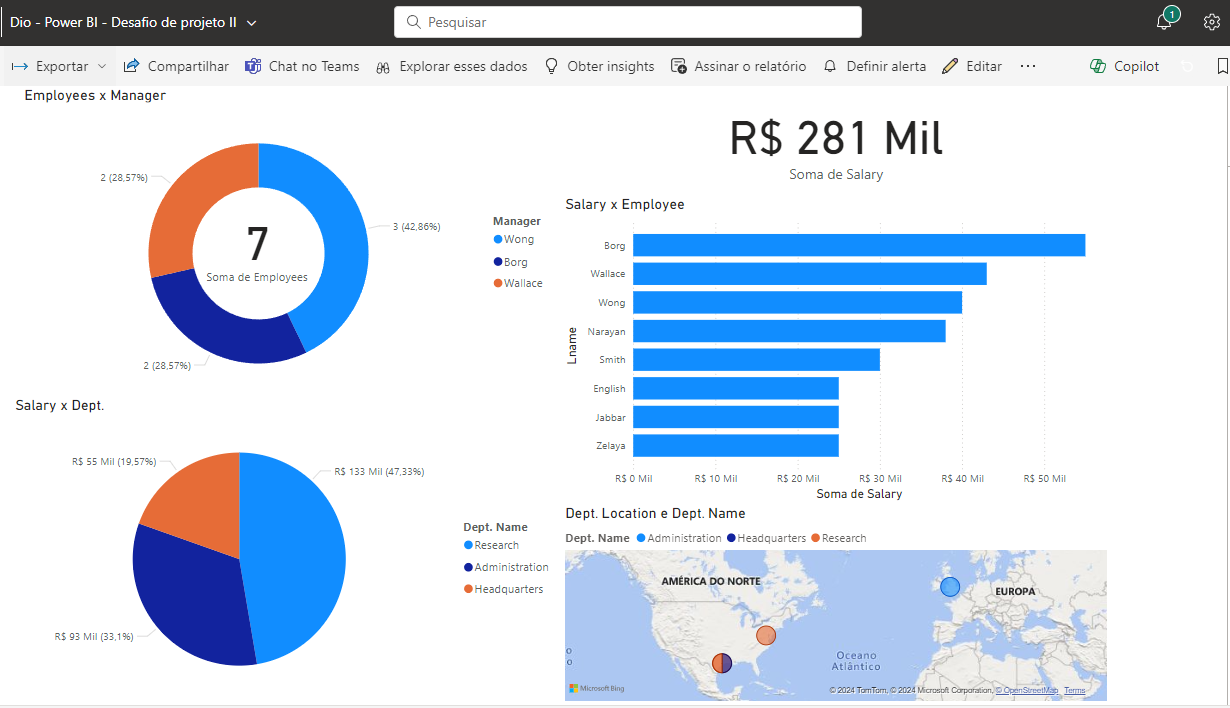

This screenshot's page, from the dashboard's own definition file:
{"tool":"powerbi","page":{"name":"Página 1","canvas":[1280,720],"ordinal":0},"visuals":[{"type":"donutChart","title":"Employees x Manager","fields":{"Y":["manager_employee.Employees"],"Category":["manager_employee.Lname"]},"box":[10.1,0,629.9,370.5],"z":0,"group":"g1"},{"type":"group","id":"g1","title":"Total employees","box":[10.1,0,629.9,370.5],"z":0},{"type":"barChart","title":"Salary x Employee","fields":{"Category":["azure_company employee.Lname"],"Y":["azure_company employee.Salary"]},"box":[640,126.3,640,360.4],"z":1000},{"type":"card","fields":{"Values":["manager_employee.Employees"]},"box":[193.9,127,183.8,115.1],"z":1000,"group":"g1"},{"type":"card","fields":{"Values":["azure_company employee.Salary"]},"box":[640,0,640,126.3],"z":2000},{"type":"pieChart","title":"Salary x Dept.","fields":{"Y":["employee_department.Salary"],"Category":["employee_department.azure_company department.Dname"]},"box":[0,360.4,640,360.4],"z":3000},{"type":"map","fields":{"Series":["azure_company department.Dname"],"Category":["azure_company dept_locations.Dlocation"]},"box":[640,486.7,640,234.1],"z":4000}]}

Visuals, with their boxes on the page's 1280x720 design canvas (x1, y1, x2, y2). These are canvas units, not pixel positions in the 1230x708 screenshot, which may show the page scaled, cropped or inside an application window:
"Employees x Manager" donutChart: bbox(10, 0, 640, 370)
"Total employees" group: bbox(10, 0, 640, 370)
"Salary x Employee" barChart: bbox(640, 126, 1280, 487)
card - manager_employee.Employees: bbox(194, 127, 378, 242)
card - azure_company employee.Salary: bbox(640, 0, 1280, 126)
"Salary x Dept." pieChart: bbox(0, 360, 640, 721)
map - azure_company department.Dname x azure_company dept_locations.Dlocation: bbox(640, 487, 1280, 721)
